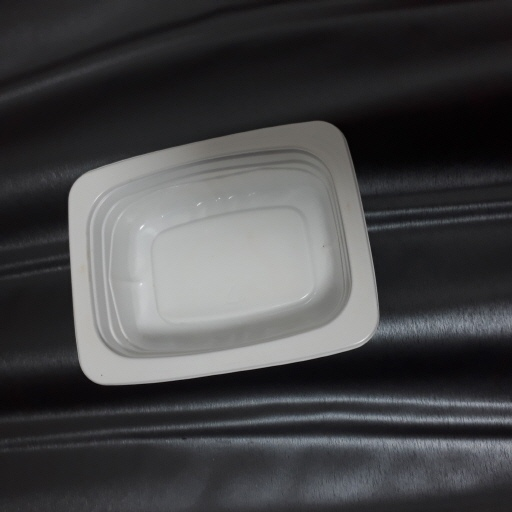Plastic_4: (64, 119, 381, 390)
